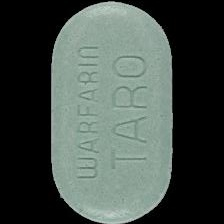53808-0994: (0, 0, 224, 224)
